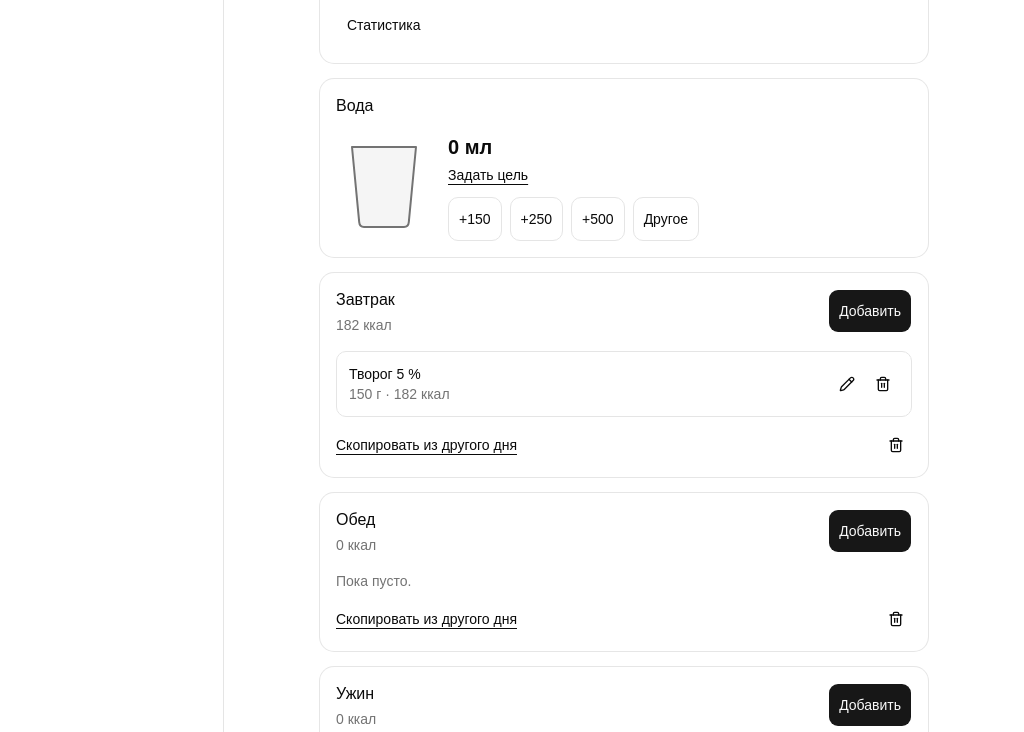
день дневника › показывает отказ сервера при удалении
The width and height of the screenshot is (1024, 732).
(page scrolled)
Step 1. Click the button named "Удалить" → x=883, y=384, box [867,368,899,400]
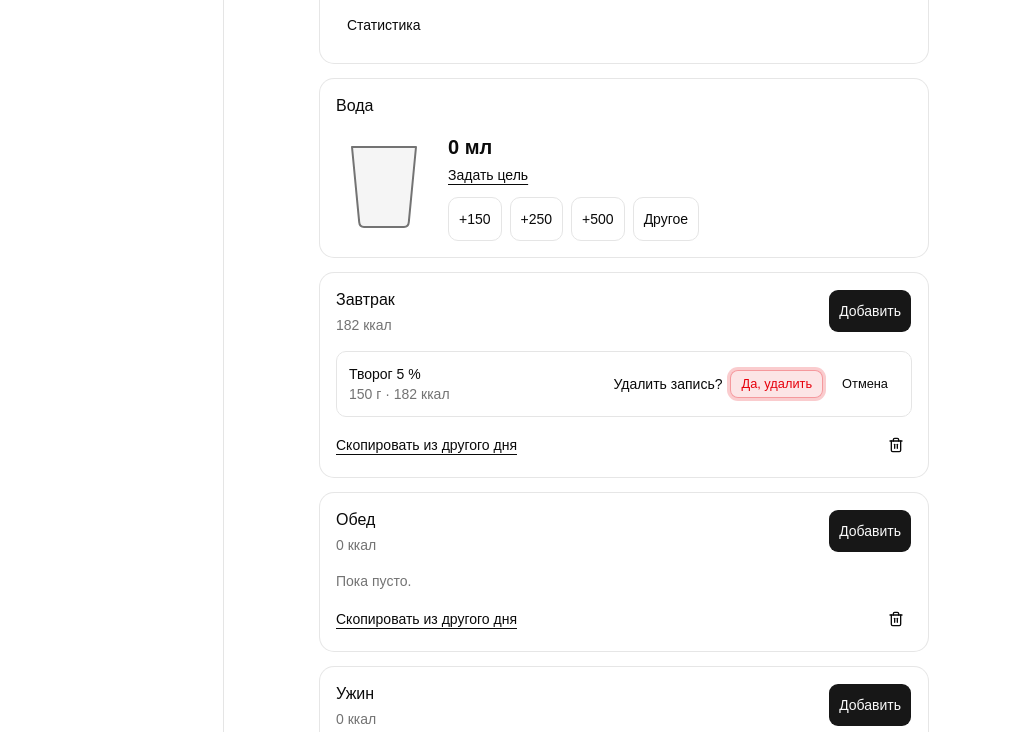
Step 2. Click the button "Да, удалить" → x=777, y=384, box [730,370,823,398]
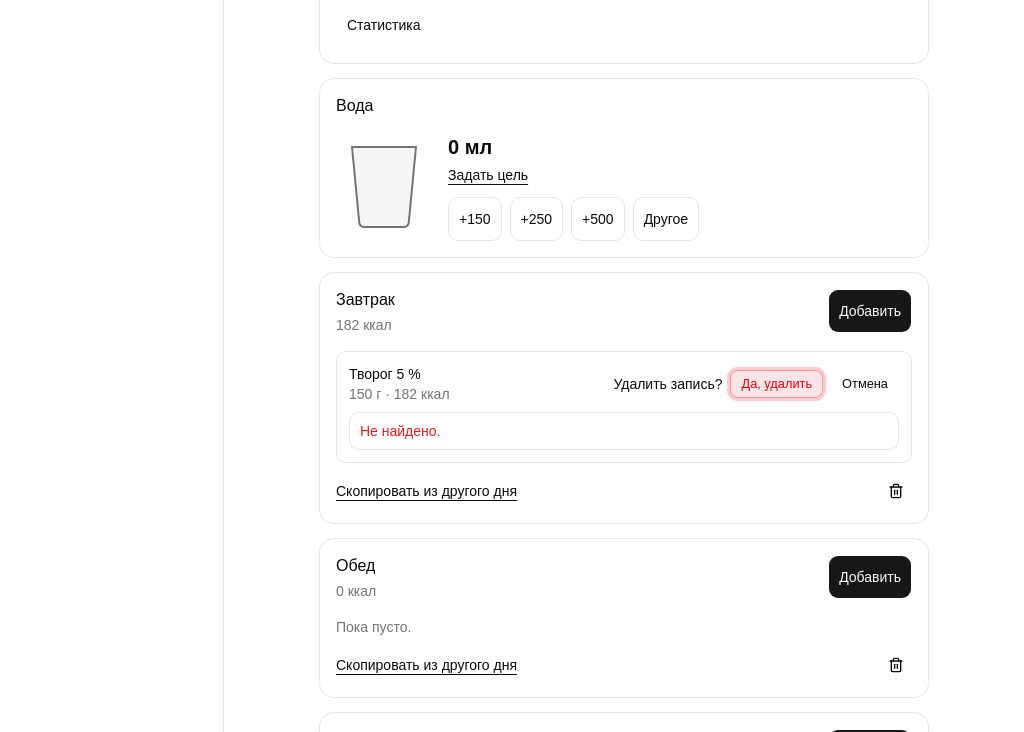
Expected: the message reads "Не найдено.", [360,423,440,439]
